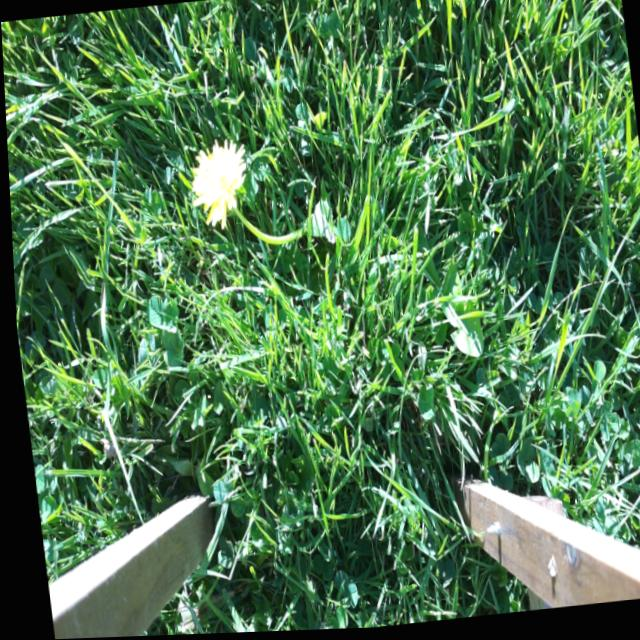base: (283, 211, 310, 250)
flower: (181, 143, 250, 229)
